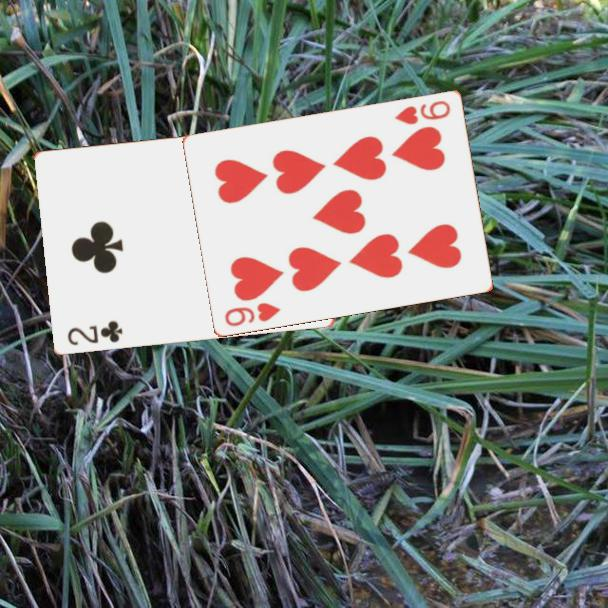c02: (64, 317, 126, 348)
h09: (391, 97, 454, 127), (221, 299, 284, 329)
